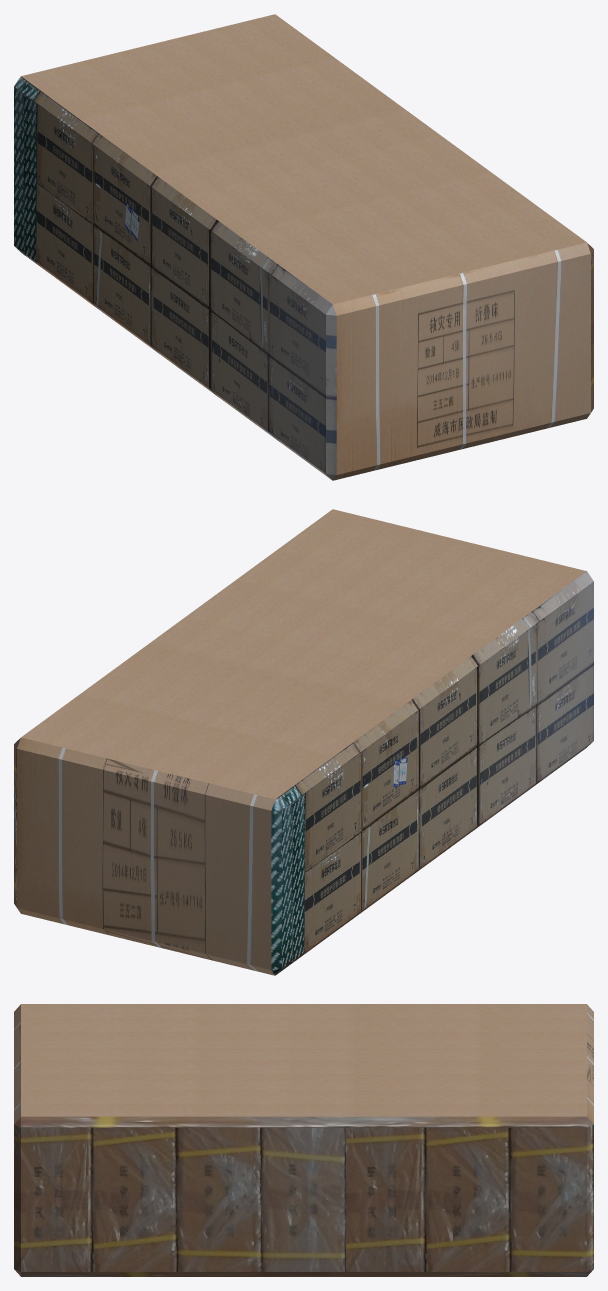
The model's file is humujing.FBX.
3 views of the same model, one above another, from view 1: azimuth 30°, elevation 25°; view 2: azimuth 150°, elevation 25°; view 3: azimuth 270°, elevation 25° (orthographic). The views are drawn at different scales.
Parts seen in each view (by area): view 1: Box3767; view 2: Box3767; view 3: Box3767.
Part boxes in pixels (x1,y1,x2,y2): Box3767: [14, 14, 593, 480]; Box3767: [14, 509, 593, 975]; Box3767: [14, 1004, 593, 1276].
Bounding box in the file's own units: 0.7354 × 1.52 × 0.4622.
